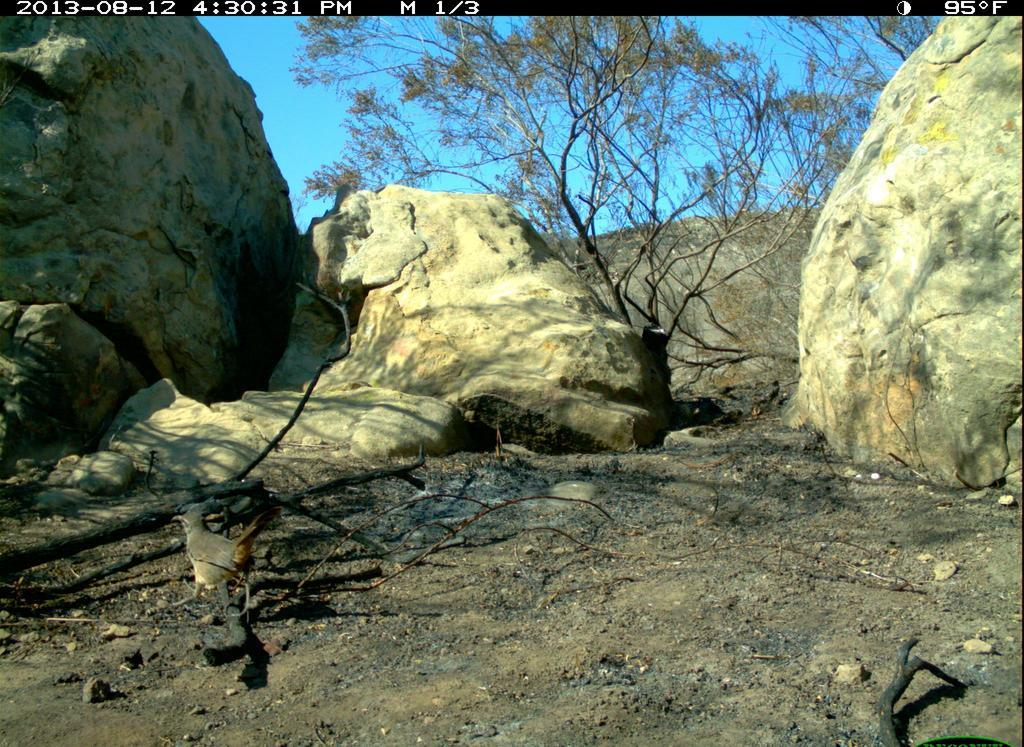bird: (164, 507, 278, 611)
